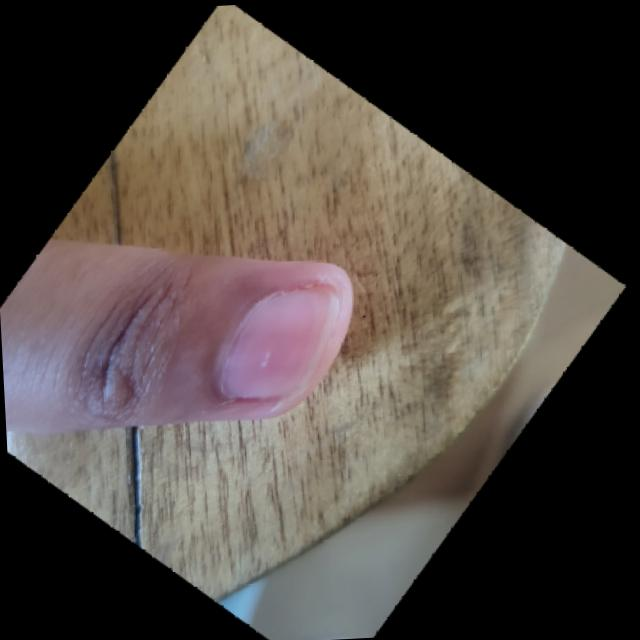Nail: (224, 290, 334, 398)
